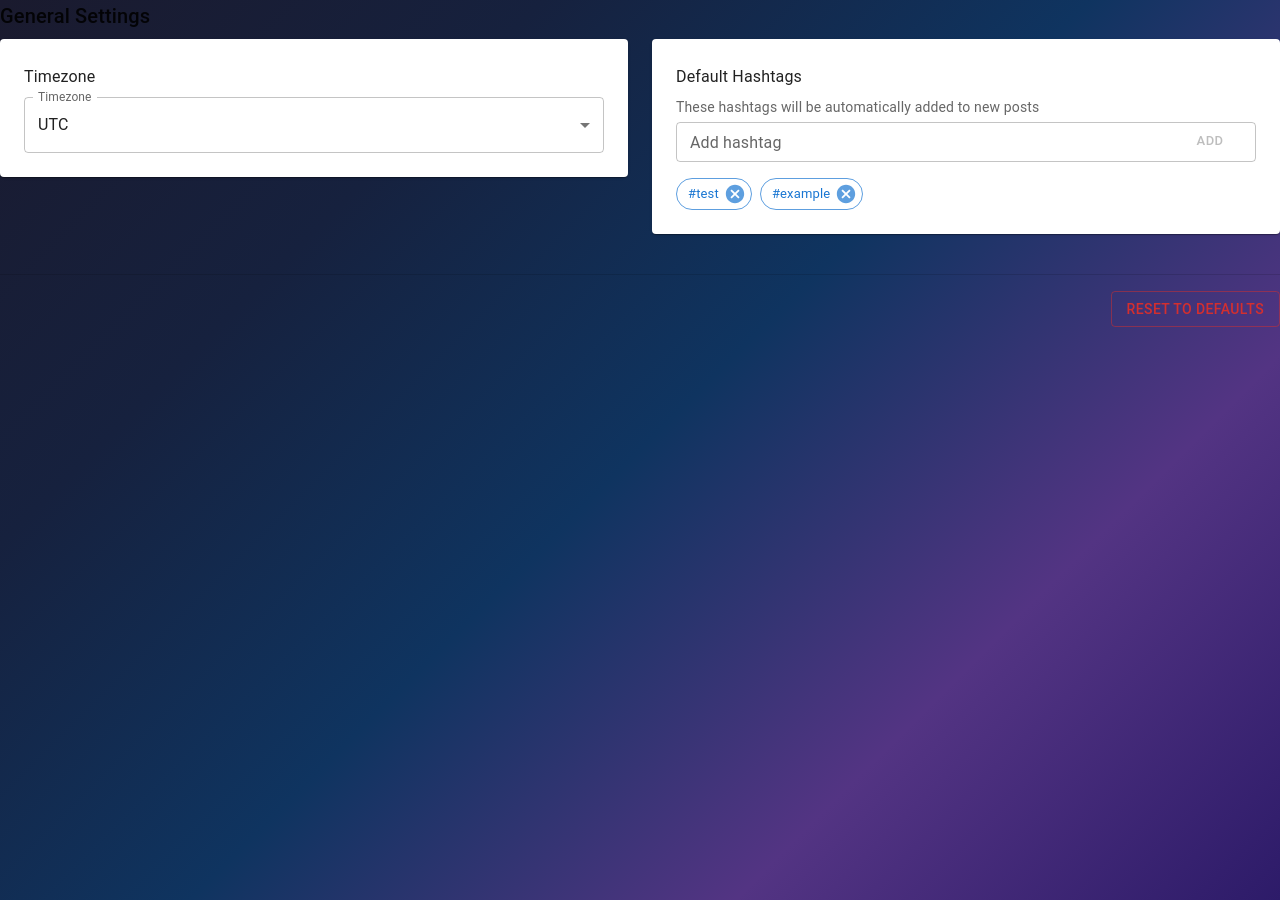
it: GeneralSettings › should handle reset cancellation
What coordinates should you click on to do the following:
click the button "Reset to Defaults"
I would click on:
 (1195, 309)
Its box is [1111,290,1279,327].
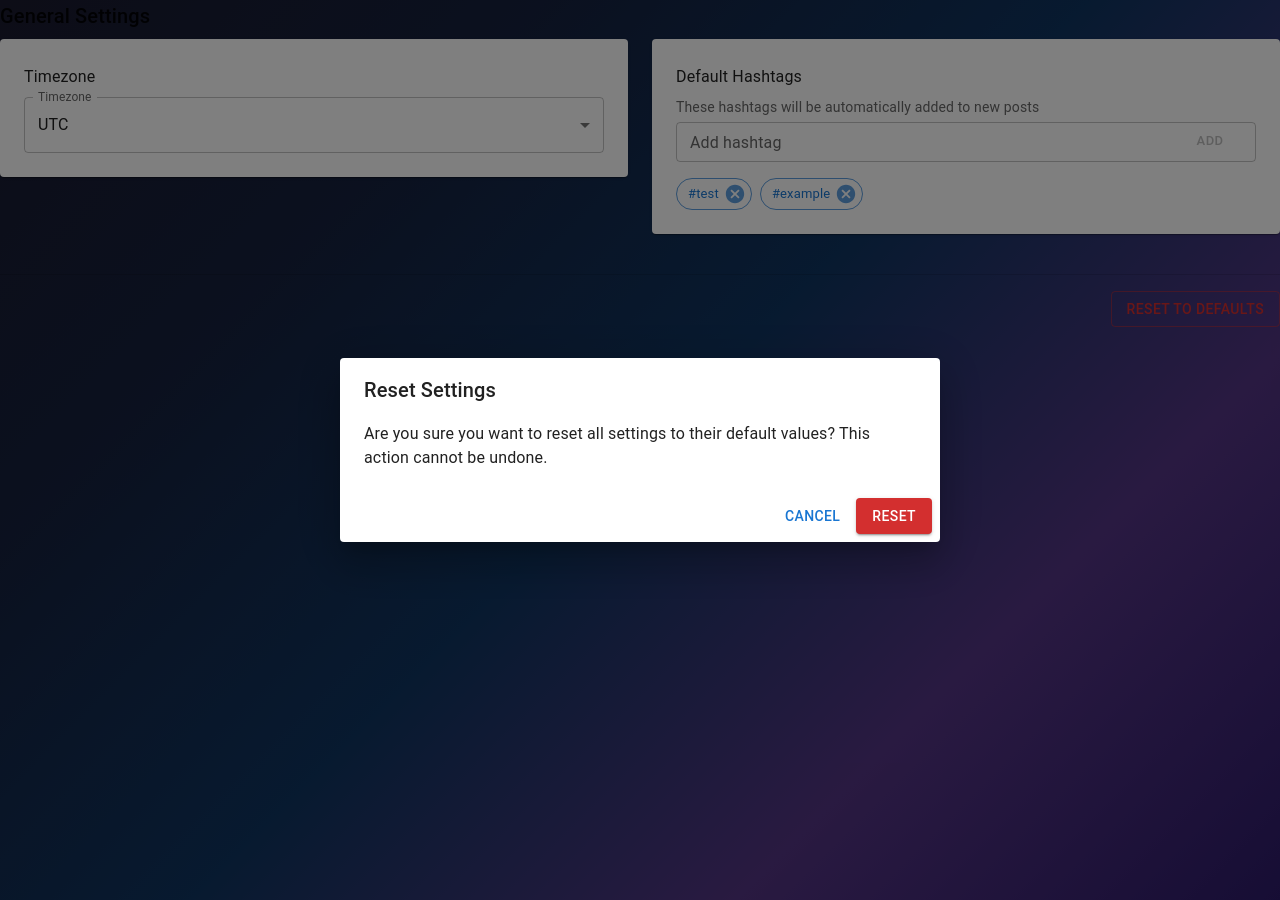
Result: the heading "Reset Settings" is shown at [364,378,496,402]
What coordinates should you click on to do the following:
click the button "Cancel"
I would click on:
 (813, 516)
Its box is [777,498,848,534].
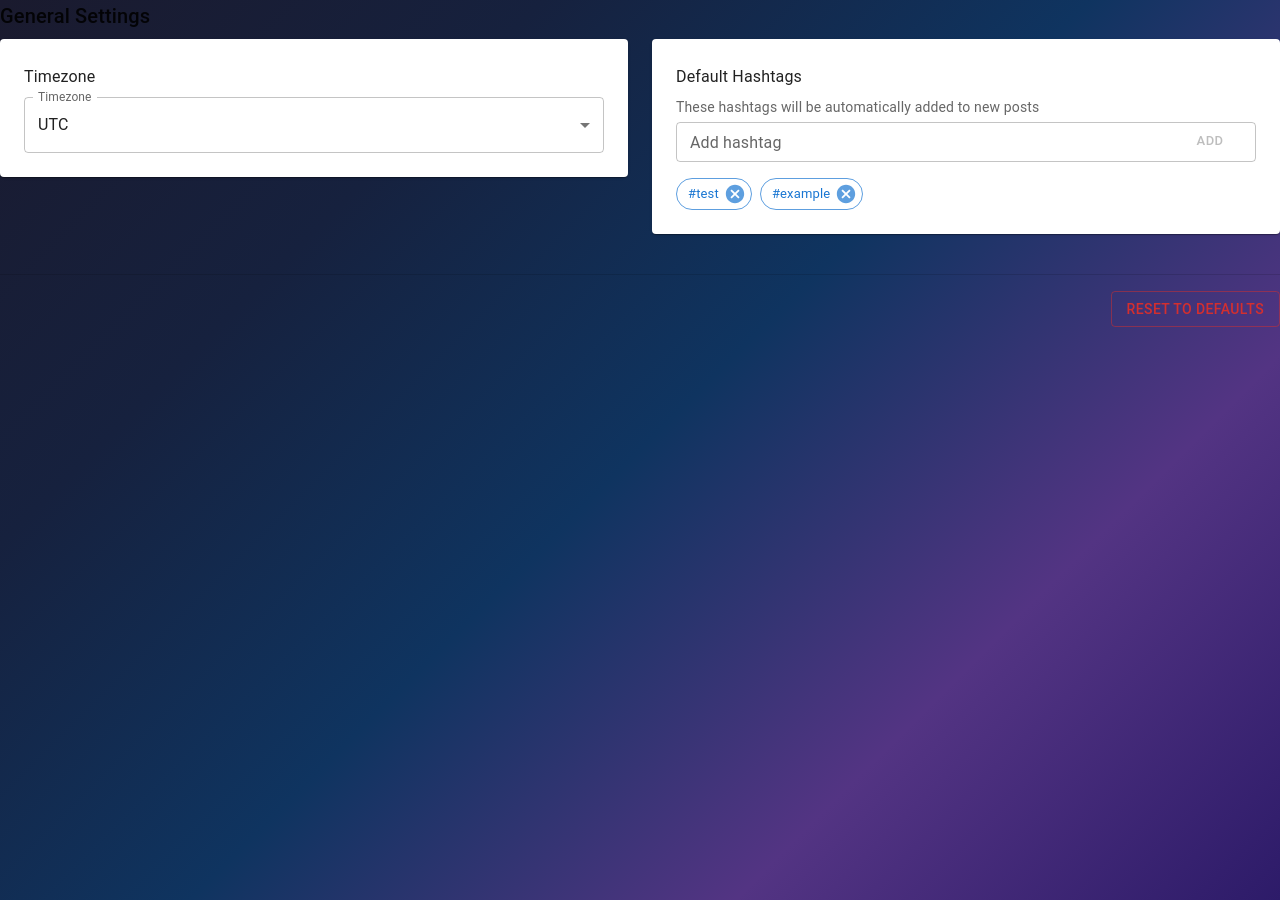
Result: the heading "Reset Settings" is gone
